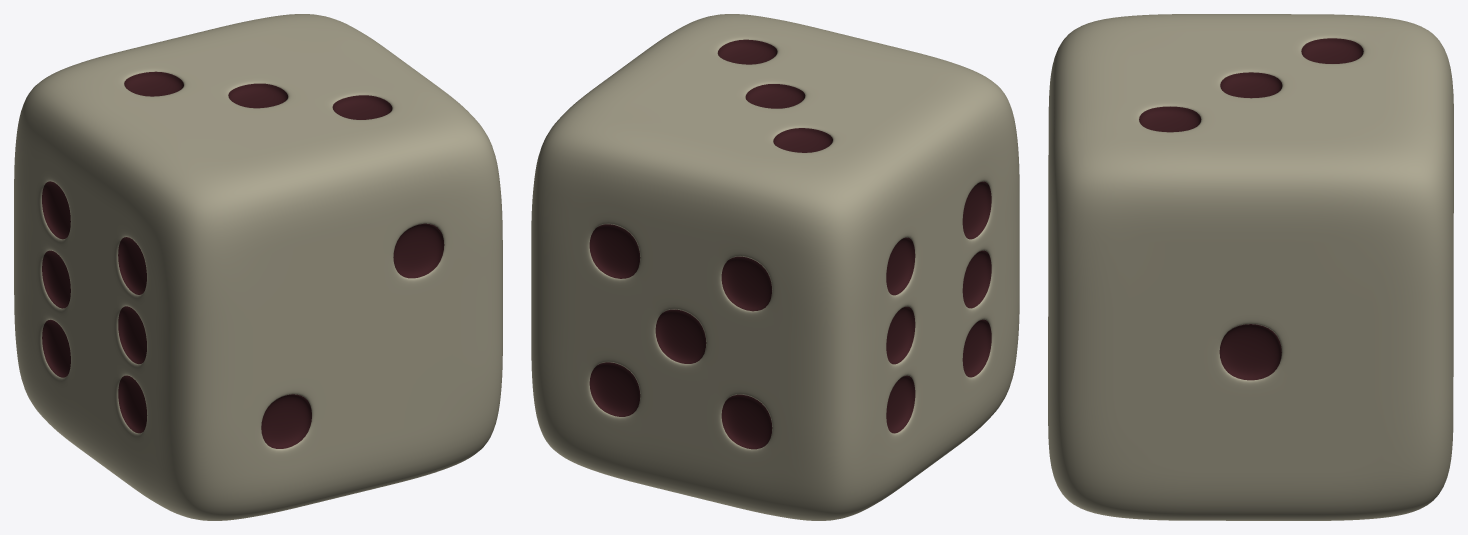
File: Dice_Color.fbx
3 views of the same model, side by side, from view 1: azimuth 30°, elevation 25°; view 2: azimuth 150°, elevation 25°; view 3: azimuth 270°, elevation 25° (orthographic). The views are drawn at different scales.
Parts seen in each view (by area): view 1: Dice; view 2: Dice; view 3: Dice.
Boxes of the visible parts, x1,y1,x2,y2 form: Dice: (14,14,502,520); Dice: (531,14,1019,520); Dice: (1048,14,1453,520).
Bounding box in the file's own units: 200 × 200 × 200.
